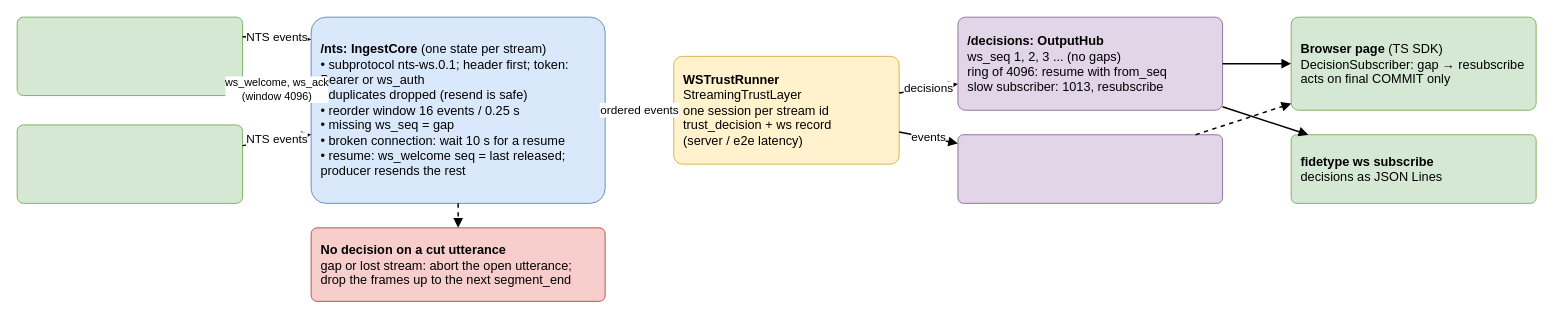
This 1553x319 diagram has some shape labels left out. The shapes that lost their labels are listed below. From the top down, each one's box as (x1, y1, x2, y2) in pixels, then its label:
(16, 16, 243, 96): Decoder (producer) stream id acme-1 header, then events with ws_seq 1, 2, 3 ...
(16, 124, 243, 203): fidetype ws replay-to-ws NTS file, paced by frame times ws_batch of N frames
(957, 134, 1223, 203): /events tap NTS events + stream_id (monitoring) no replay
